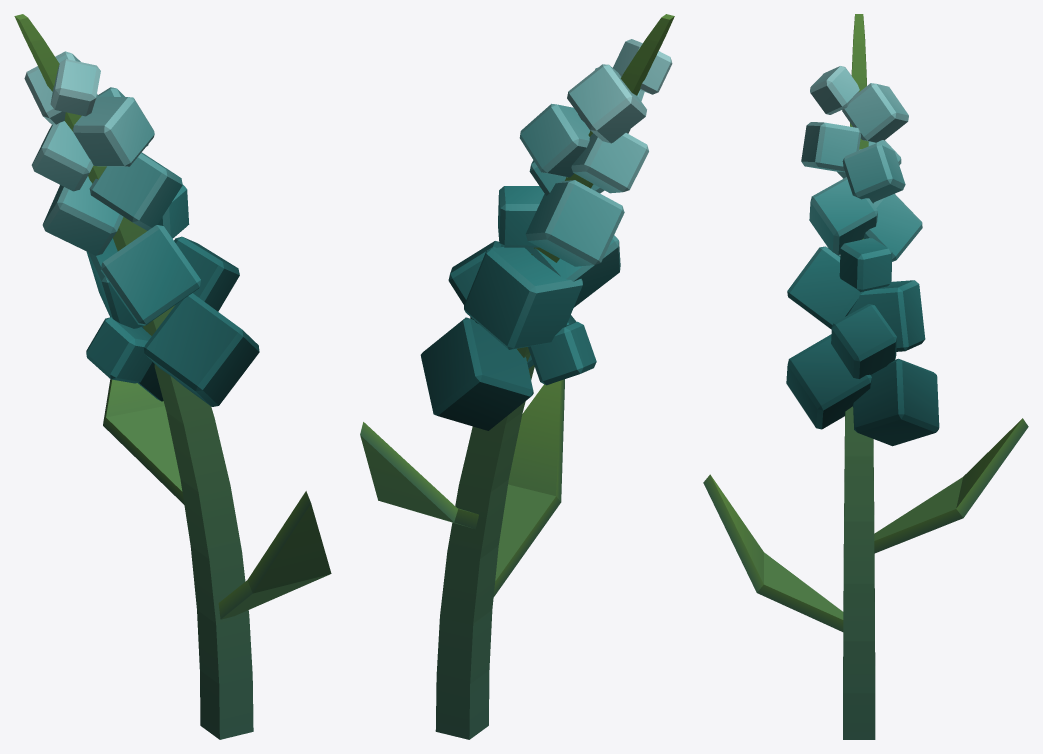
The model's file is Flower-3-4.fbx.
3 renders of one model, left to right at view 1: azimuth 30°, elevation 25°; view 2: azimuth 150°, elevation 25°; view 3: azimuth 270°, elevation 25°, orthographic. The views are drawn at different scales.
Visible parts, largest first — view 1: Flower-3-4; view 2: Flower-3-4; view 3: Flower-3-4.
Part boxes in pixels (x1,y1,x2,y2): Flower-3-4: (14, 14, 331, 739); Flower-3-4: (360, 14, 674, 739); Flower-3-4: (703, 14, 1028, 739).
Size of the model in its own units: 45.06 by 130 by 60.34.
